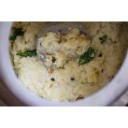venpongal: (9, 20, 124, 96)
